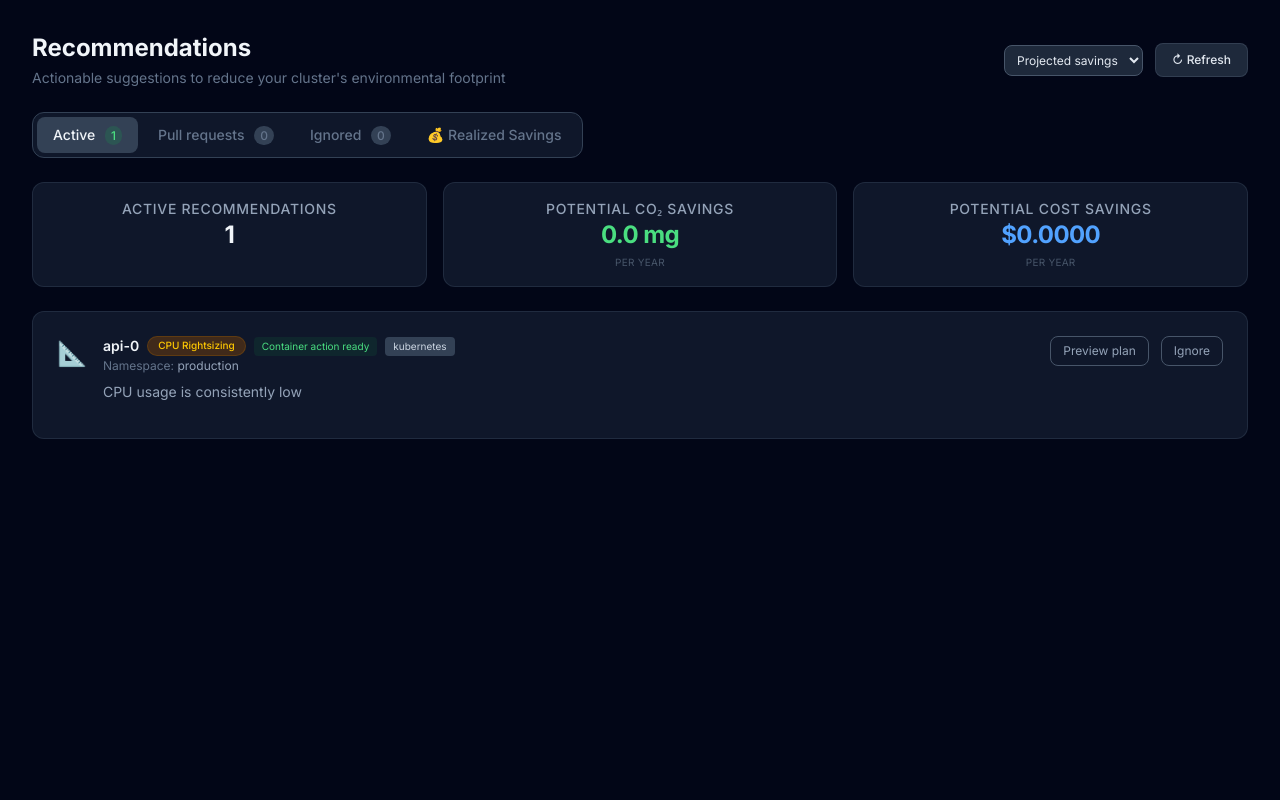
it: RecommendationsPage GitOps plan flow › surfaces drift between the planned branch head and controller revision
Click the button "Preview plan" at (1100, 351), box top-left (1050, 336), bottom-right (1149, 366)
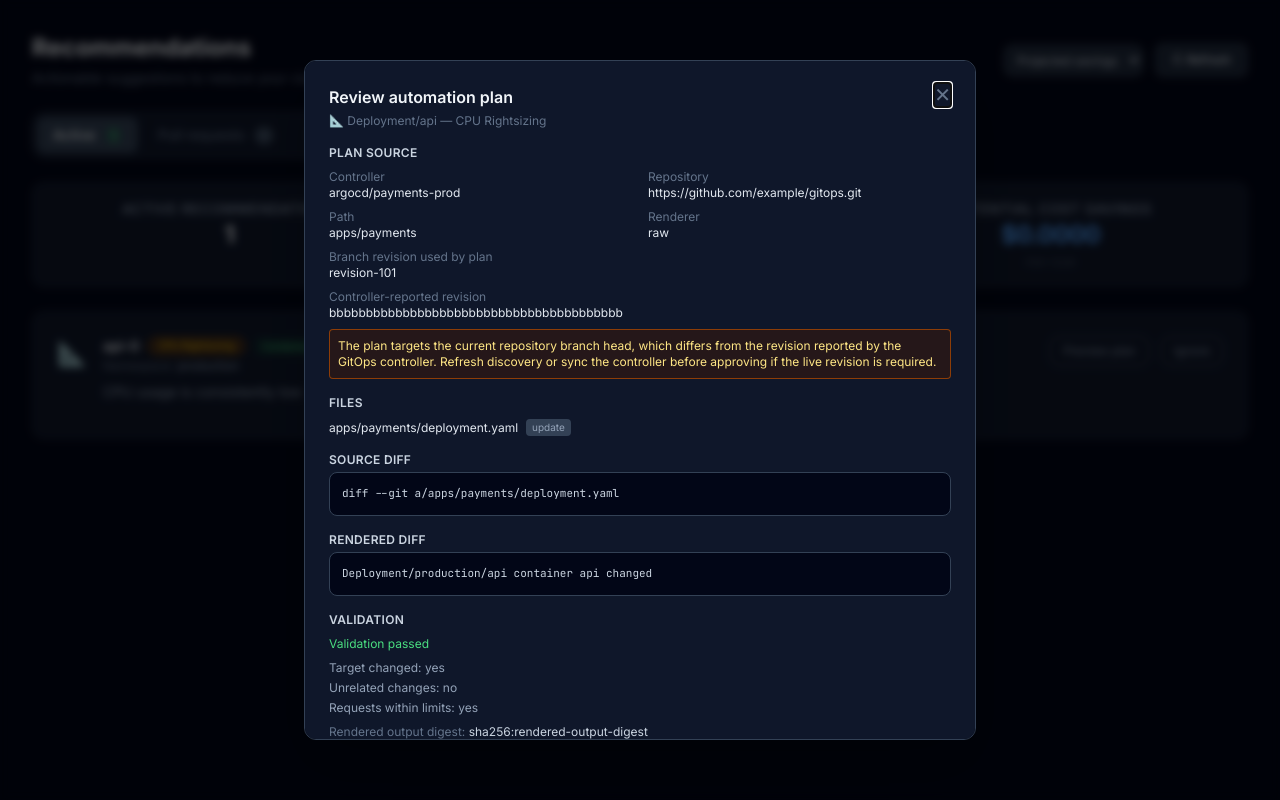
Expected: the text "Controller-reported revision" is shown, top-left (329, 289), bottom-right (486, 304)
Expected: the text "Branch revision used by plan" is shown, top-left (329, 249), bottom-right (493, 264)
